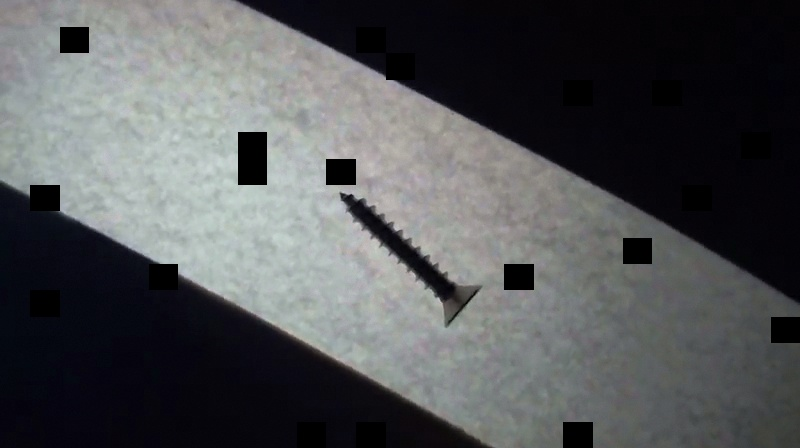S001: (333, 188, 488, 330)
